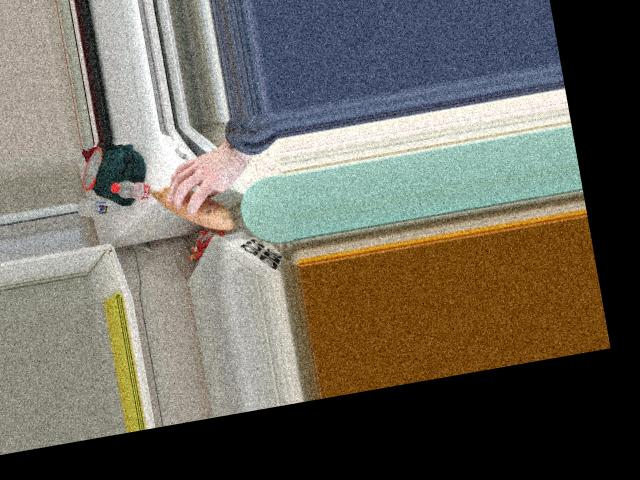sweet_potato: (151, 169, 224, 240)
